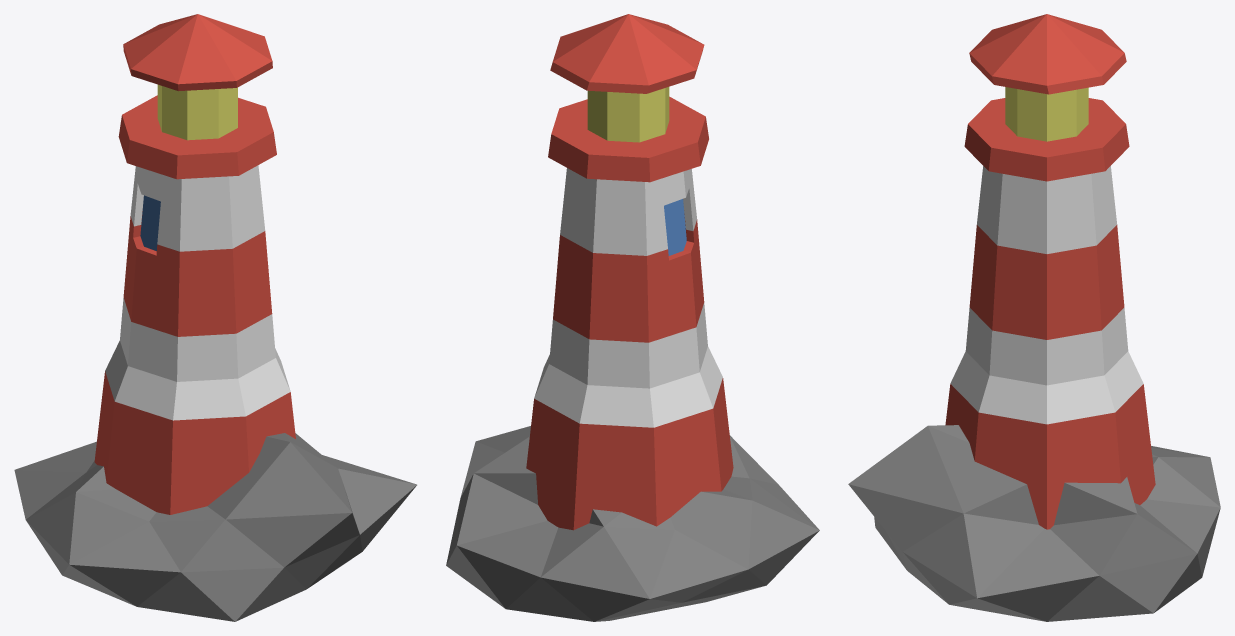
The model's file is LightHouse.fbx.
3 renders of one model, left to right at view 1: azimuth 30°, elevation 25°; view 2: azimuth 150°, elevation 25°; view 3: azimuth 270°, elevation 25°, orthographic.
Parts seen in each view (by area): view 1: Cylinder.003, Icosphere, Cone, Cylinder.001; view 2: Cylinder.003, Icosphere, Cone, Cylinder.001; view 3: Cylinder.003, Icosphere, Cone, Cylinder.001.
Boxes of the visible parts, <box> form: Cylinder.003: <box>94,95,295,514</box>; Icosphere: <box>14,433,416,621</box>; Cone: <box>123,14,272,91</box>; Cylinder.001: <box>157,84,237,140</box>; Cylinder.003: <box>526,96,733,530</box>; Icosphere: <box>446,426,819,621</box>; Cone: <box>550,14,704,93</box>; Cylinder.001: <box>587,87,669,142</box>; Cylinder.003: <box>945,98,1155,529</box>; Icosphere: <box>848,425,1220,621</box>; Cone: <box>969,14,1126,94</box>; Cylinder.001: <box>1005,87,1088,141</box>.
Bounding box in the file's own units: 741 × 1185 × 693.
